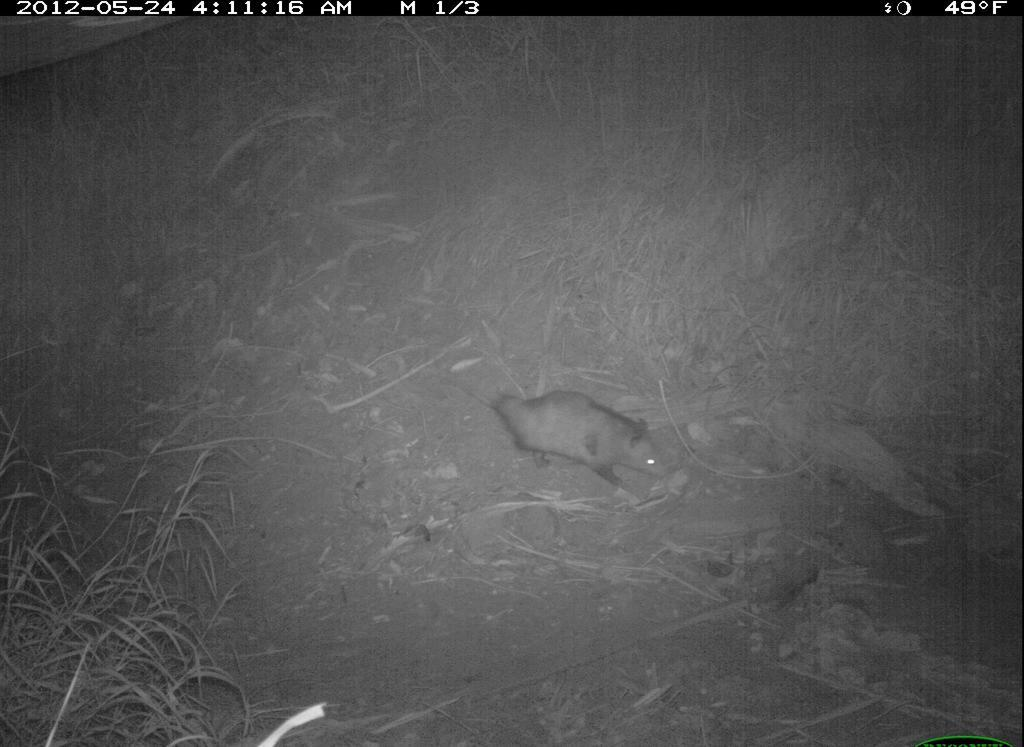opossum: (459, 356, 690, 529)
